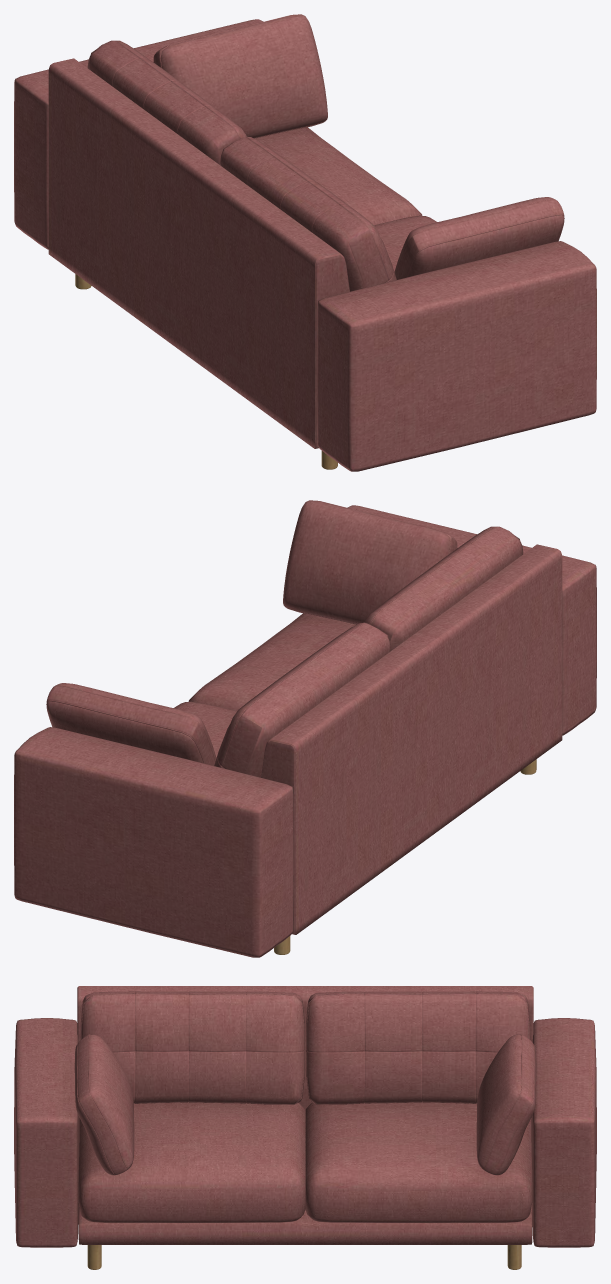
File: tobias-h.glb
3 renders of one model, top to bottom at view 1: azimuth 30°, elevation 25°; view 2: azimuth 150°, elevation 25°; view 3: azimuth 270°, elevation 25°, orthographic. The views are drawn at different scales.
Parts seen in each view (by area): view 1: MAIN; view 2: MAIN; view 3: MAIN, DOOR.
Part boxes in pixels (x1,y1,x2,y2): MAIN: (14, 14, 596, 471); MAIN: (14, 500, 596, 957); MAIN: (14, 986, 596, 1247); DOOR: (87, 1245, 521, 1269).
Bounding box in the file's own units: 0.8675 × 0.7749 × 2.02.
2 materials, 2 textured.
